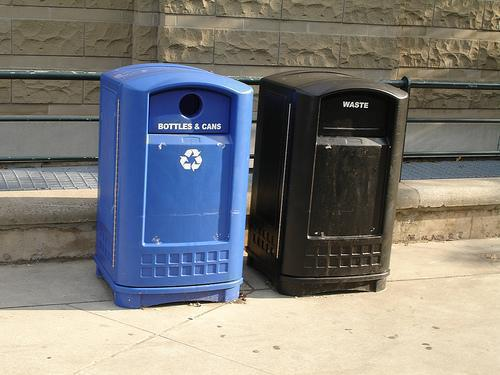Bote de Basura: (96, 70, 260, 304)
